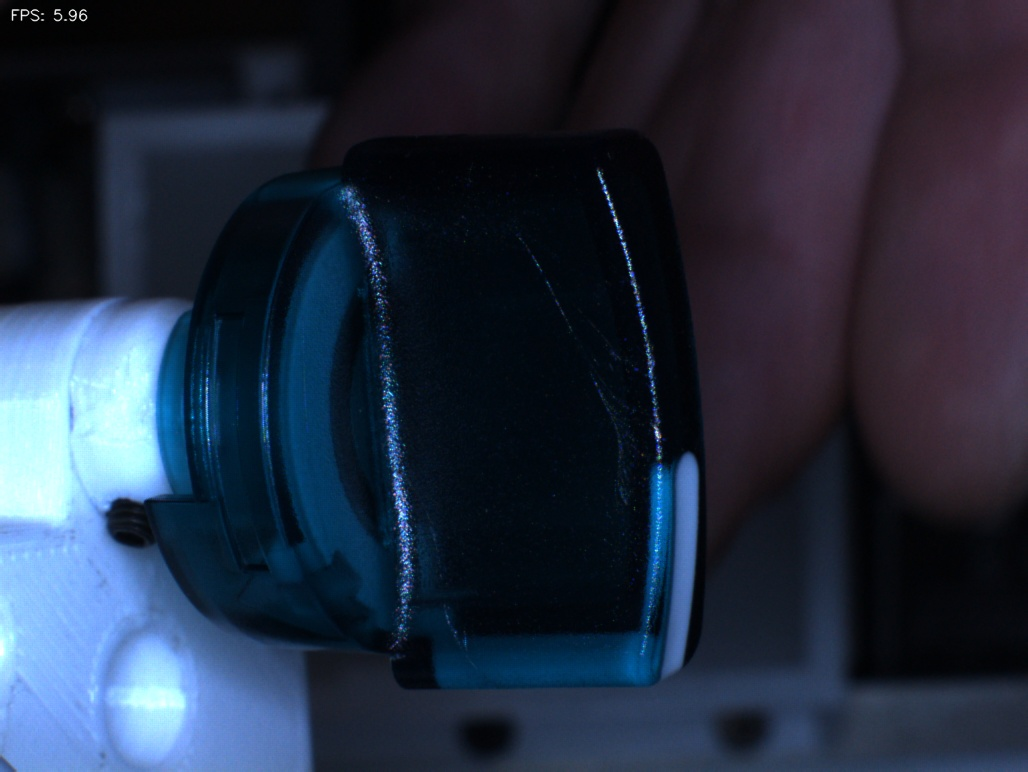Givrage: (521, 249, 651, 501)
